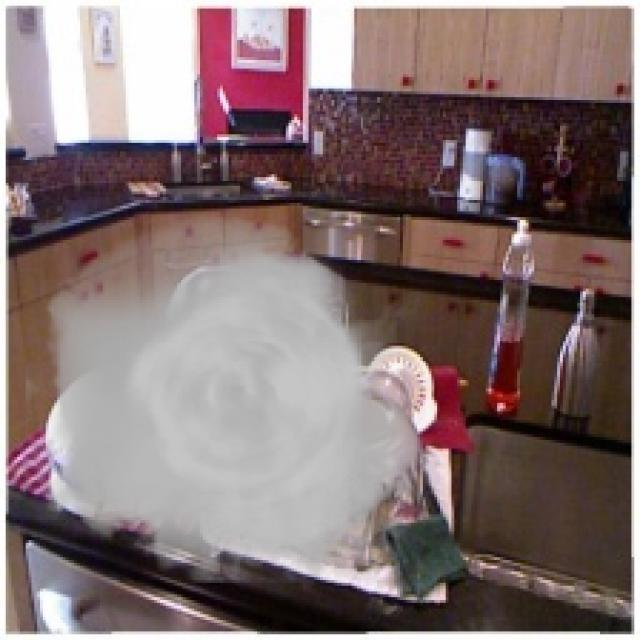Smoke: (26, 214, 434, 583)
